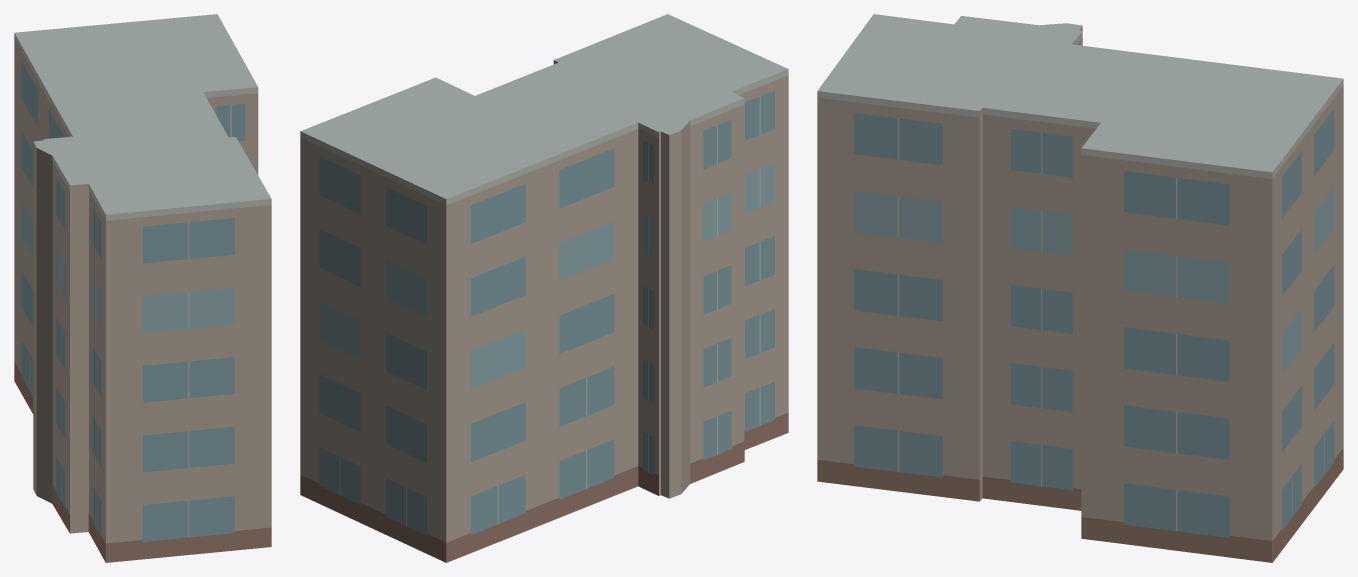
File: survey-upis-32535695.glb
3 views of the same model, side by side, from view 1: azimuth 30°, elevation 25°; view 2: azimuth 150°, elevation 25°; view 3: azimuth 270°, elevation 25° (orthographic). The views are drawn at different scales.
Parts seen in each view (by area): view 1: survey-upis-32535695.tmp; view 2: survey-upis-32535695.tmp; view 3: survey-upis-32535695.tmp.
Part boxes in pixels (x1,y1,x2,y2): survey-upis-32535695.tmp: (14, 14, 271, 562); survey-upis-32535695.tmp: (300, 14, 788, 562); survey-upis-32535695.tmp: (817, 14, 1343, 562).
Bounding box in the file's own units: 12.45 × 14.3 × 17.48.
